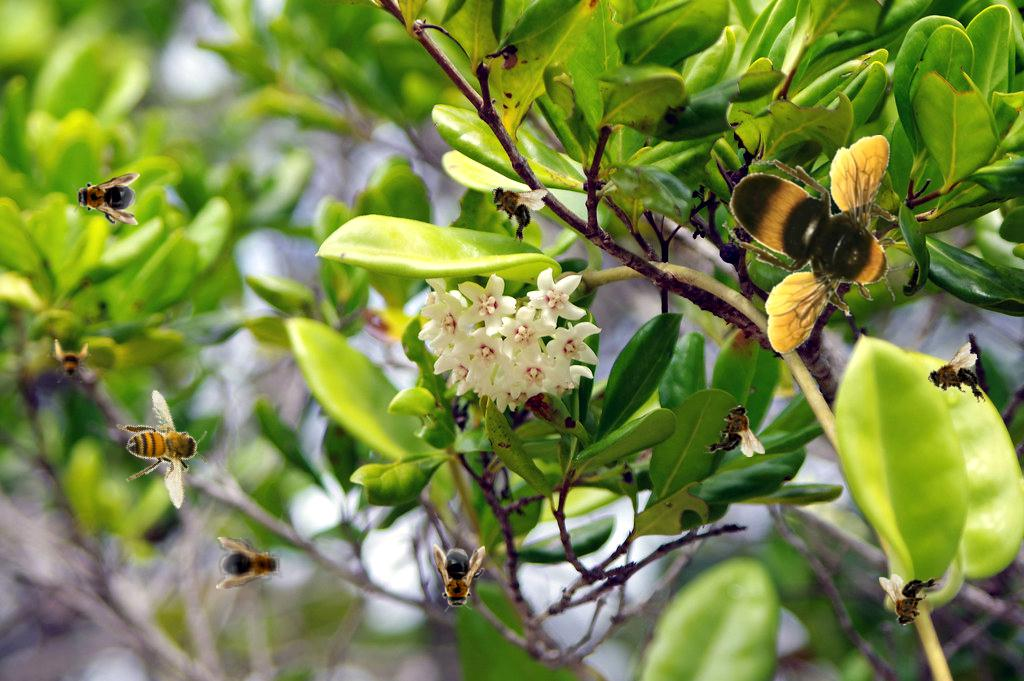Bee: (722, 135, 913, 355), (92, 379, 235, 525), (475, 168, 552, 248), (921, 341, 990, 415), (433, 544, 485, 612), (72, 173, 140, 225), (216, 537, 284, 589), (703, 404, 765, 457), (879, 574, 941, 627), (47, 339, 91, 383)
